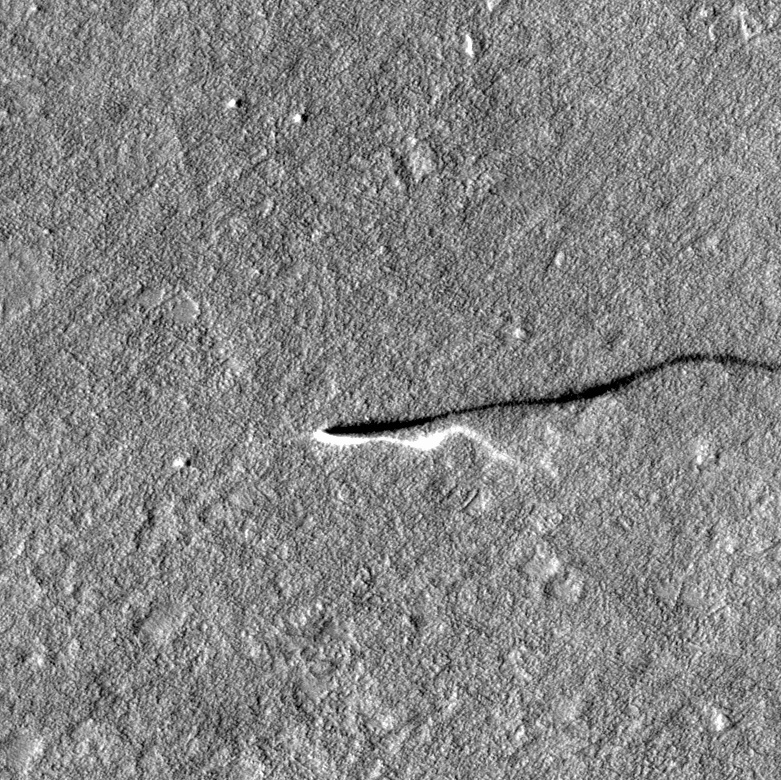dust_devil: (308, 339, 779, 471)
